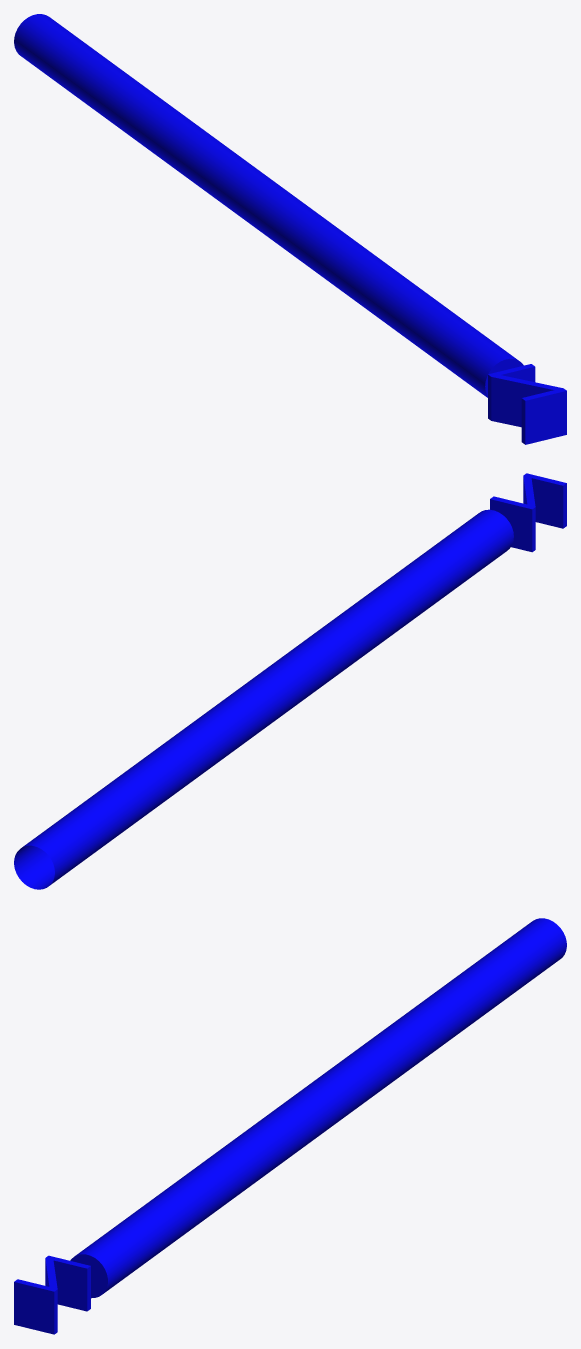
Rendered from frame_3.obj.
The picture shows the model from 3 angles, top to bottom: view 1: azimuth 30°, elevation 25°; view 2: azimuth 150°, elevation 25°; view 3: azimuth 330°, elevation 25°; orthographic projection. The views are drawn at different scales.
Bounding box in the file's own units: 0.0119 × 0.01 × 0.2133.
